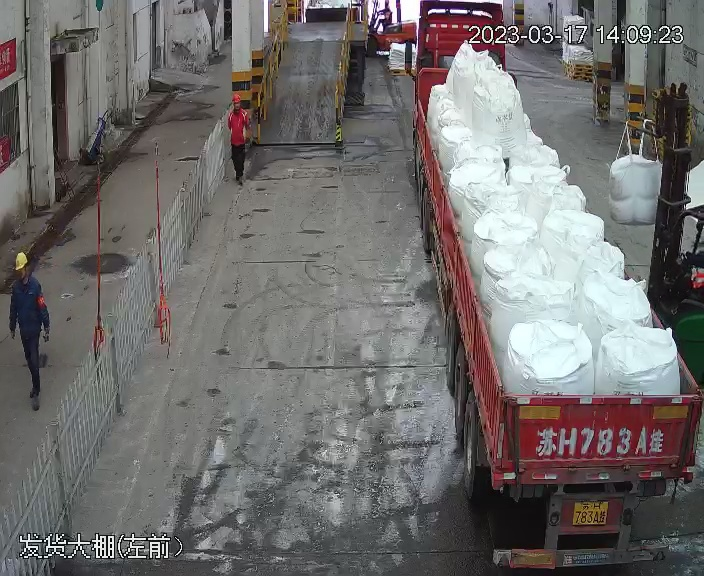head: (7, 250, 43, 296), (229, 94, 248, 124)
helmet: (7, 250, 43, 295), (12, 250, 31, 272), (231, 94, 242, 103)
people: (4, 247, 54, 412), (227, 93, 253, 184)
truck: (399, 6, 698, 559)
